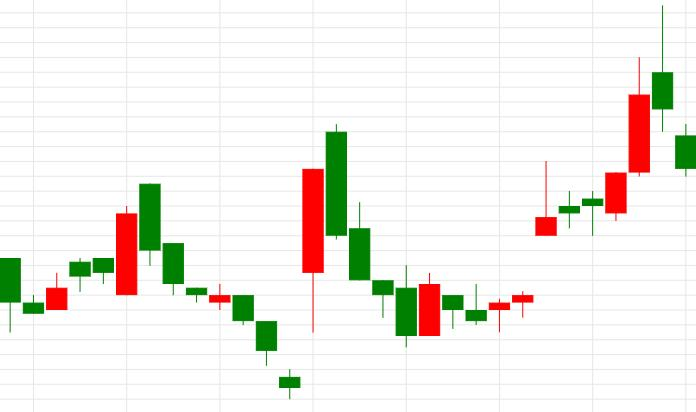shooting_star_fall: (466, 5, 672, 332)
three_black_crows_fall: (256, 123, 394, 400)
